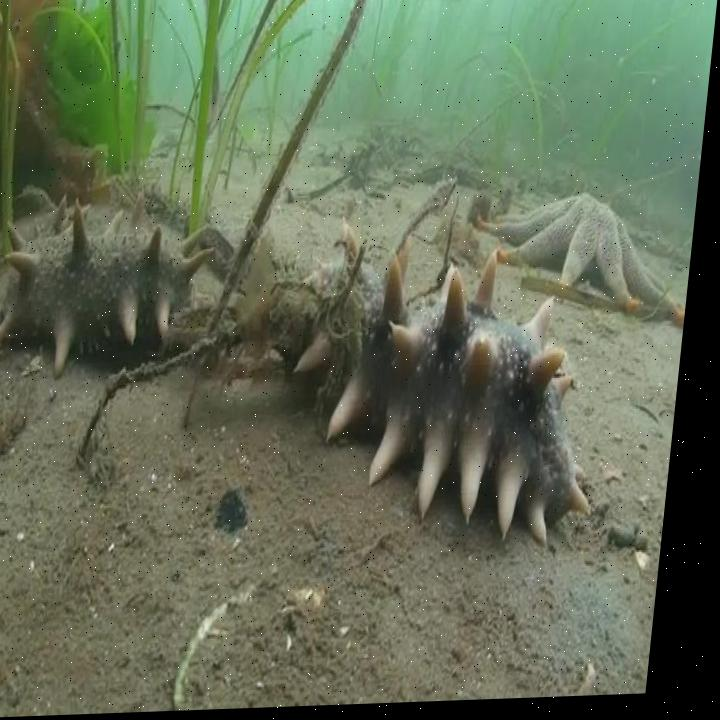holothurian: (260, 216, 624, 564), (0, 196, 225, 382)
scallop: (189, 592, 272, 713)
